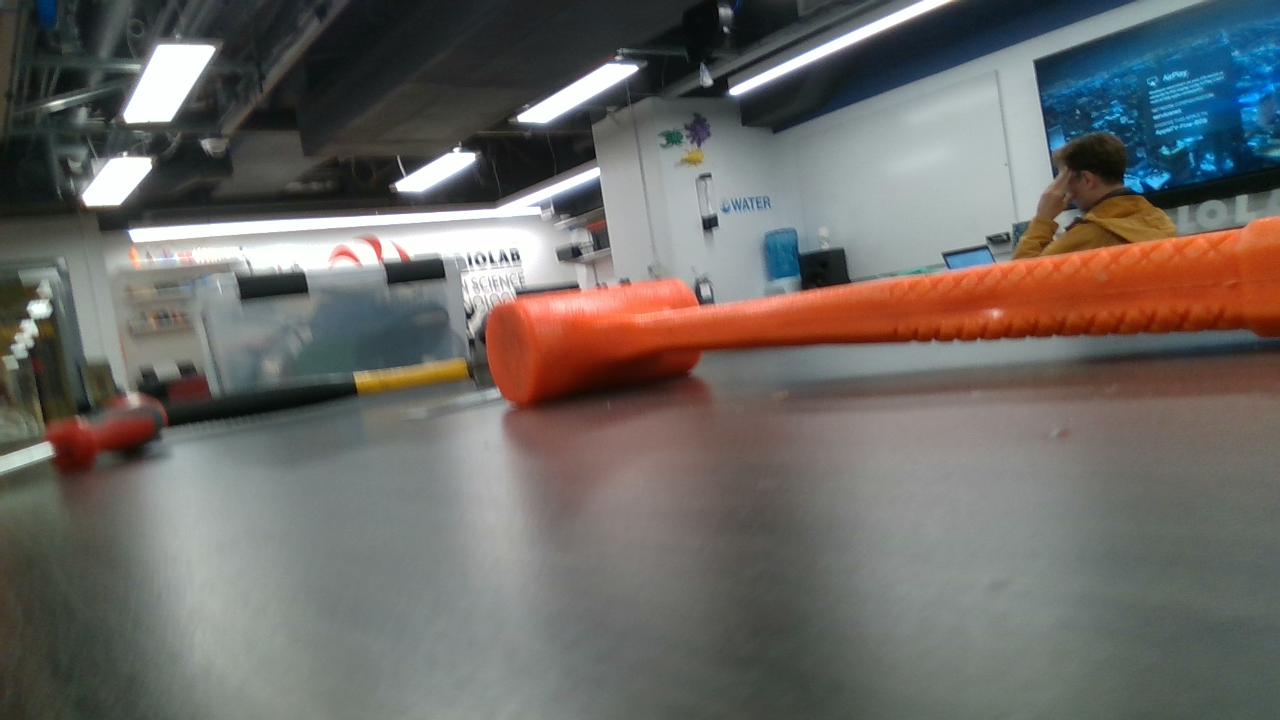Orange Hammer: (488, 217, 1280, 409)
